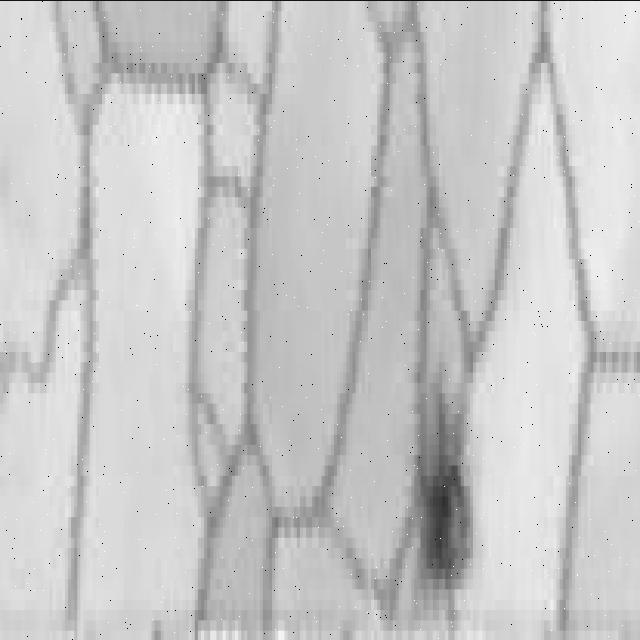good_void: (403, 388, 476, 634)
